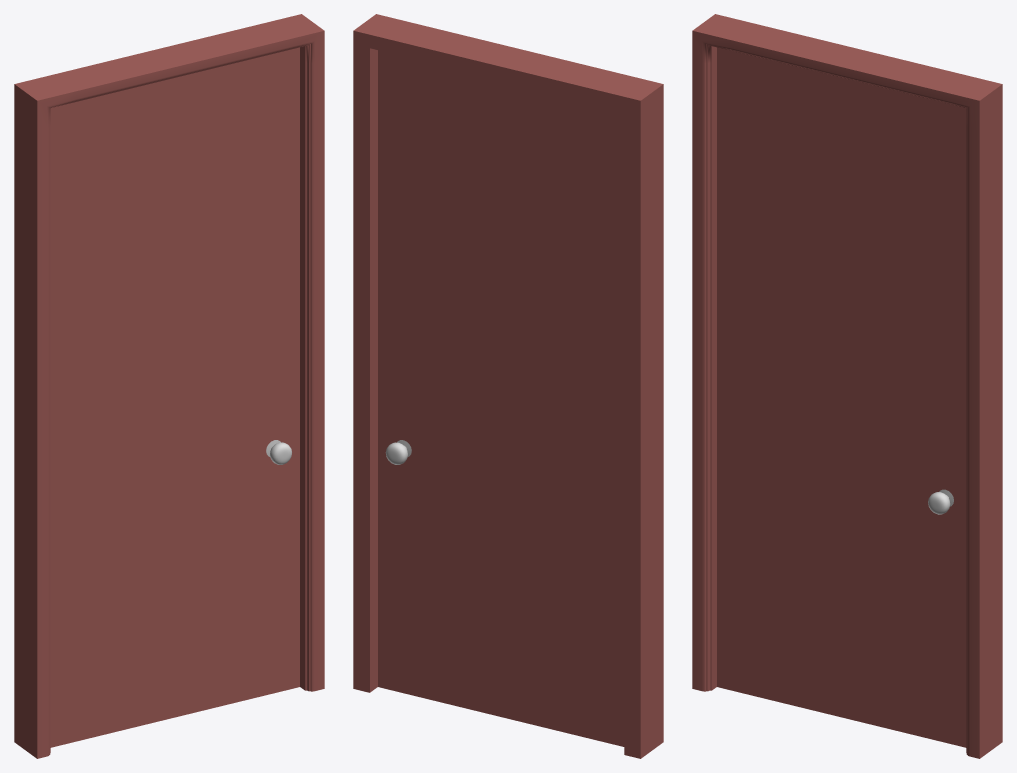
Rendered from door.fbx.
The picture shows the model from 3 angles, left to right: view 1: azimuth 30°, elevation 25°; view 2: azimuth 150°, elevation 25°; view 3: azimuth 330°, elevation 25°; orthographic projection.
Parts seen in each view (by area): view 1: SlabDoor32x108, SlabDoorFrame32x108; view 2: SlabDoor32x108, SlabDoorFrame32x108; view 3: SlabDoor32x108, SlabDoorFrame32x108.
Part boxes in pixels (x1,y1,x2,y2): SlabDoor32x108: (50, 47, 299, 747); SlabDoorFrame32x108: (14, 14, 324, 758); SlabDoor32x108: (378, 50, 624, 746); SlabDoorFrame32x108: (353, 14, 663, 758); SlabDoor32x108: (717, 47, 966, 747); SlabDoorFrame32x108: (692, 14, 1002, 758).
Size of the model in its own units: 185 by 404 by 29.78.
